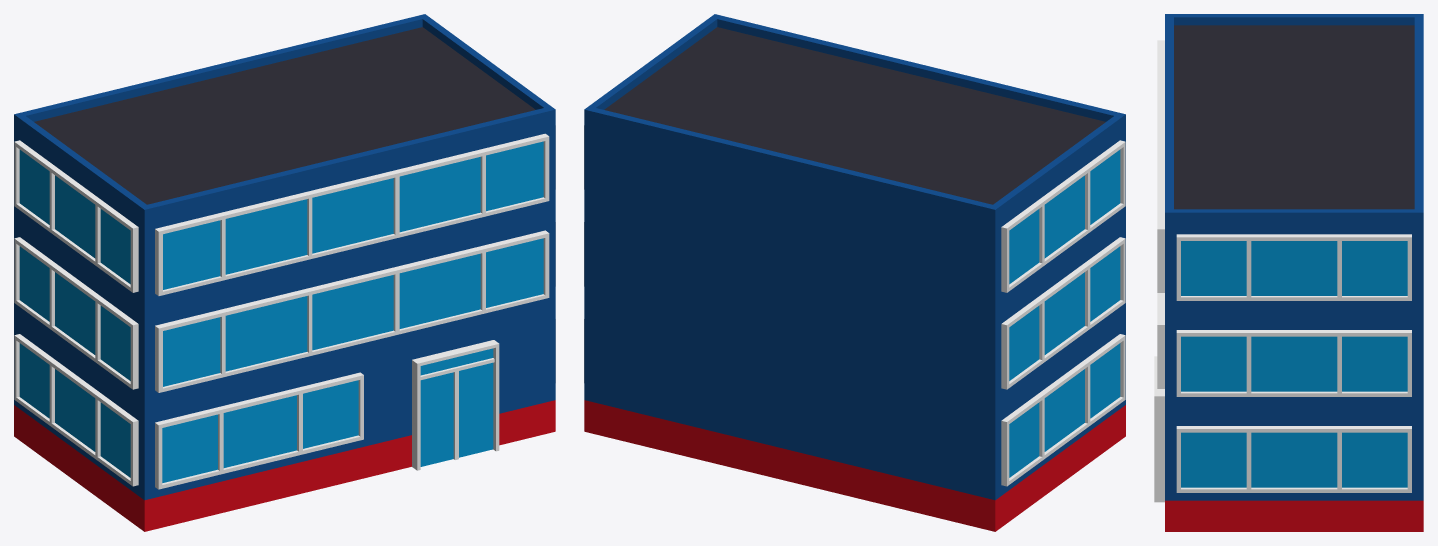
File: Building_10.fbx
3 views of the same model, side by side, from view 1: azimuth 30°, elevation 25°; view 2: azimuth 150°, elevation 25°; view 3: azimuth 270°, elevation 25° (orthographic).
Parts seen in each view (by area): view 1: B10; view 2: B10; view 3: B10.
Boxes of the visible parts, x1,y1,x2,y2 form: B10: (14, 14, 555, 531); B10: (584, 14, 1125, 531); B10: (1154, 14, 1423, 531).
Bounding box in the file's own units: 20.58 × 14.97 × 11.45.
1 material, 1 textured.
